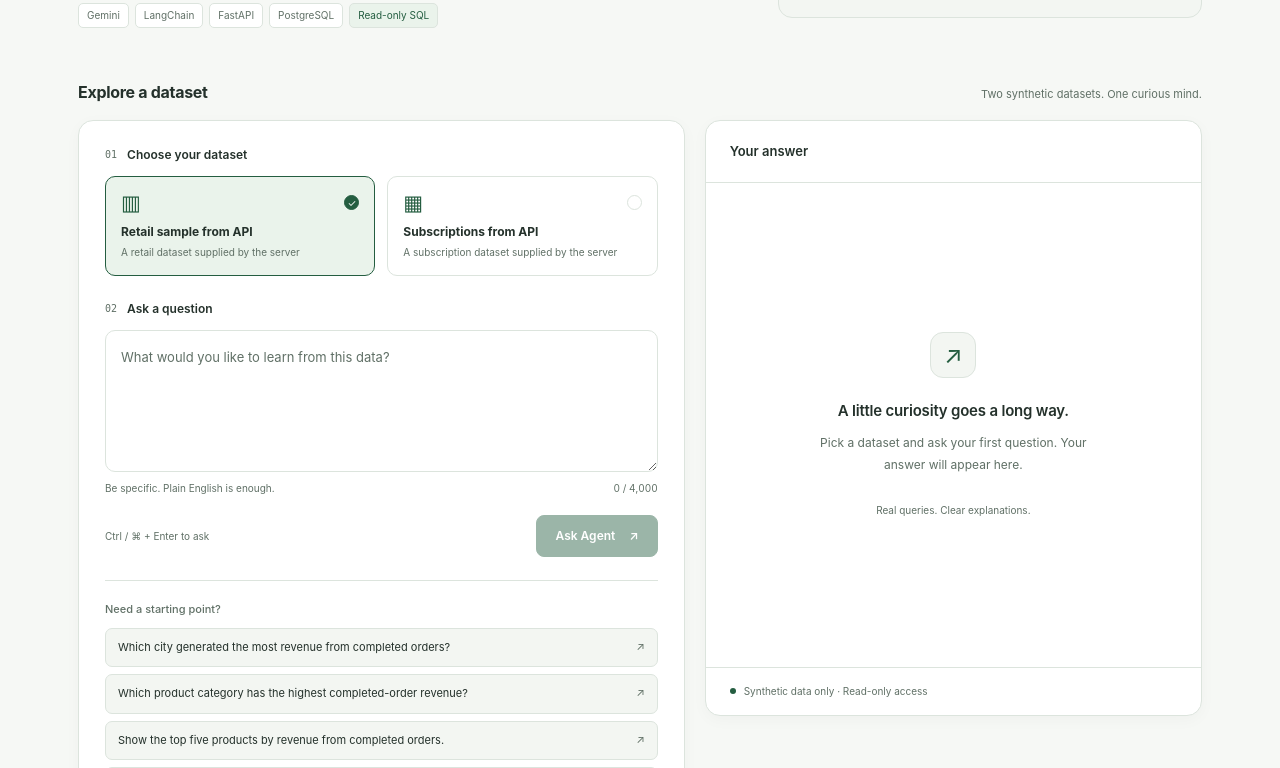
Test case: public analyst workspace › does not block queries when the optional health check fails
(page scrolled)
Expected: the radio button labelled "Retail sample" is enabled, [105,176,375,276]
Type "Count" into the text box labelled "02 Ask a question" at (381, 401), box [105,330,658,472]
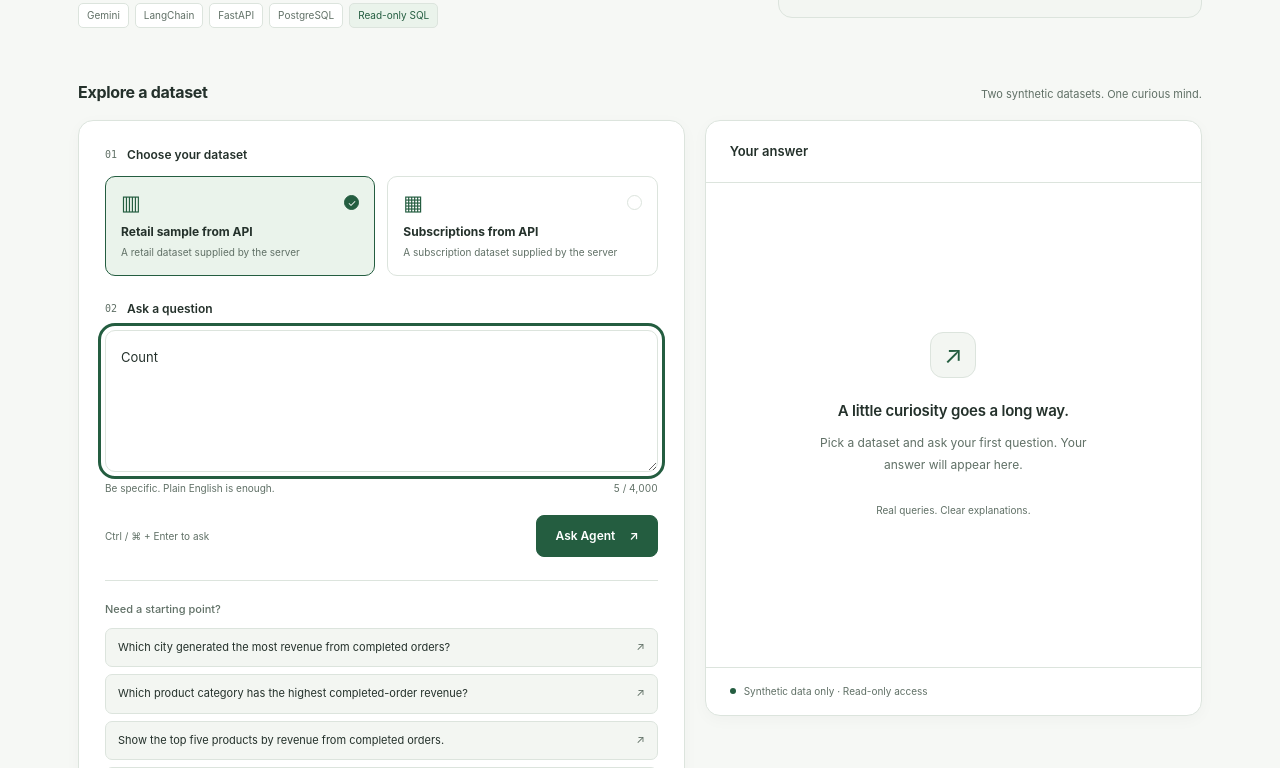
Expected: the button "Ask Agent ↗" is enabled, [536,515,658,557]
